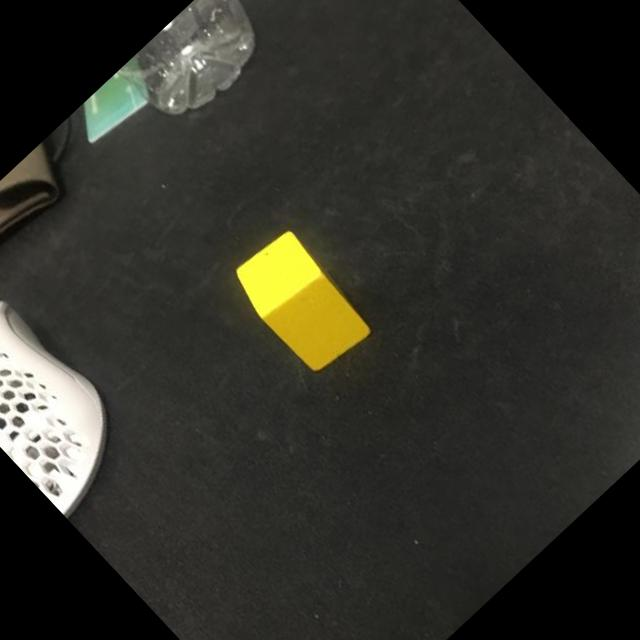yellow: (226, 223, 380, 380)
